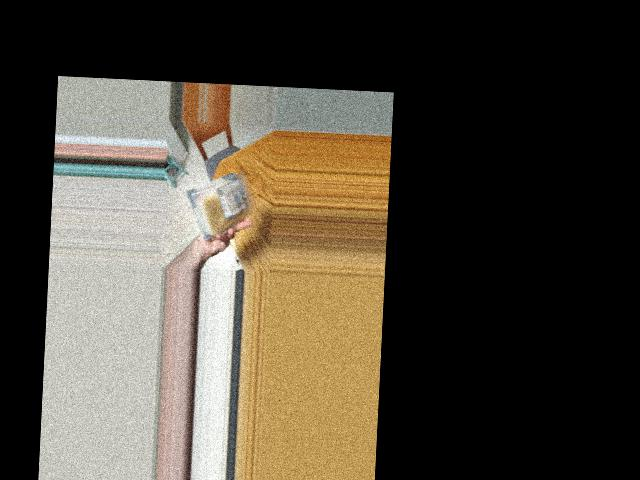cheese: (185, 171, 251, 225)
